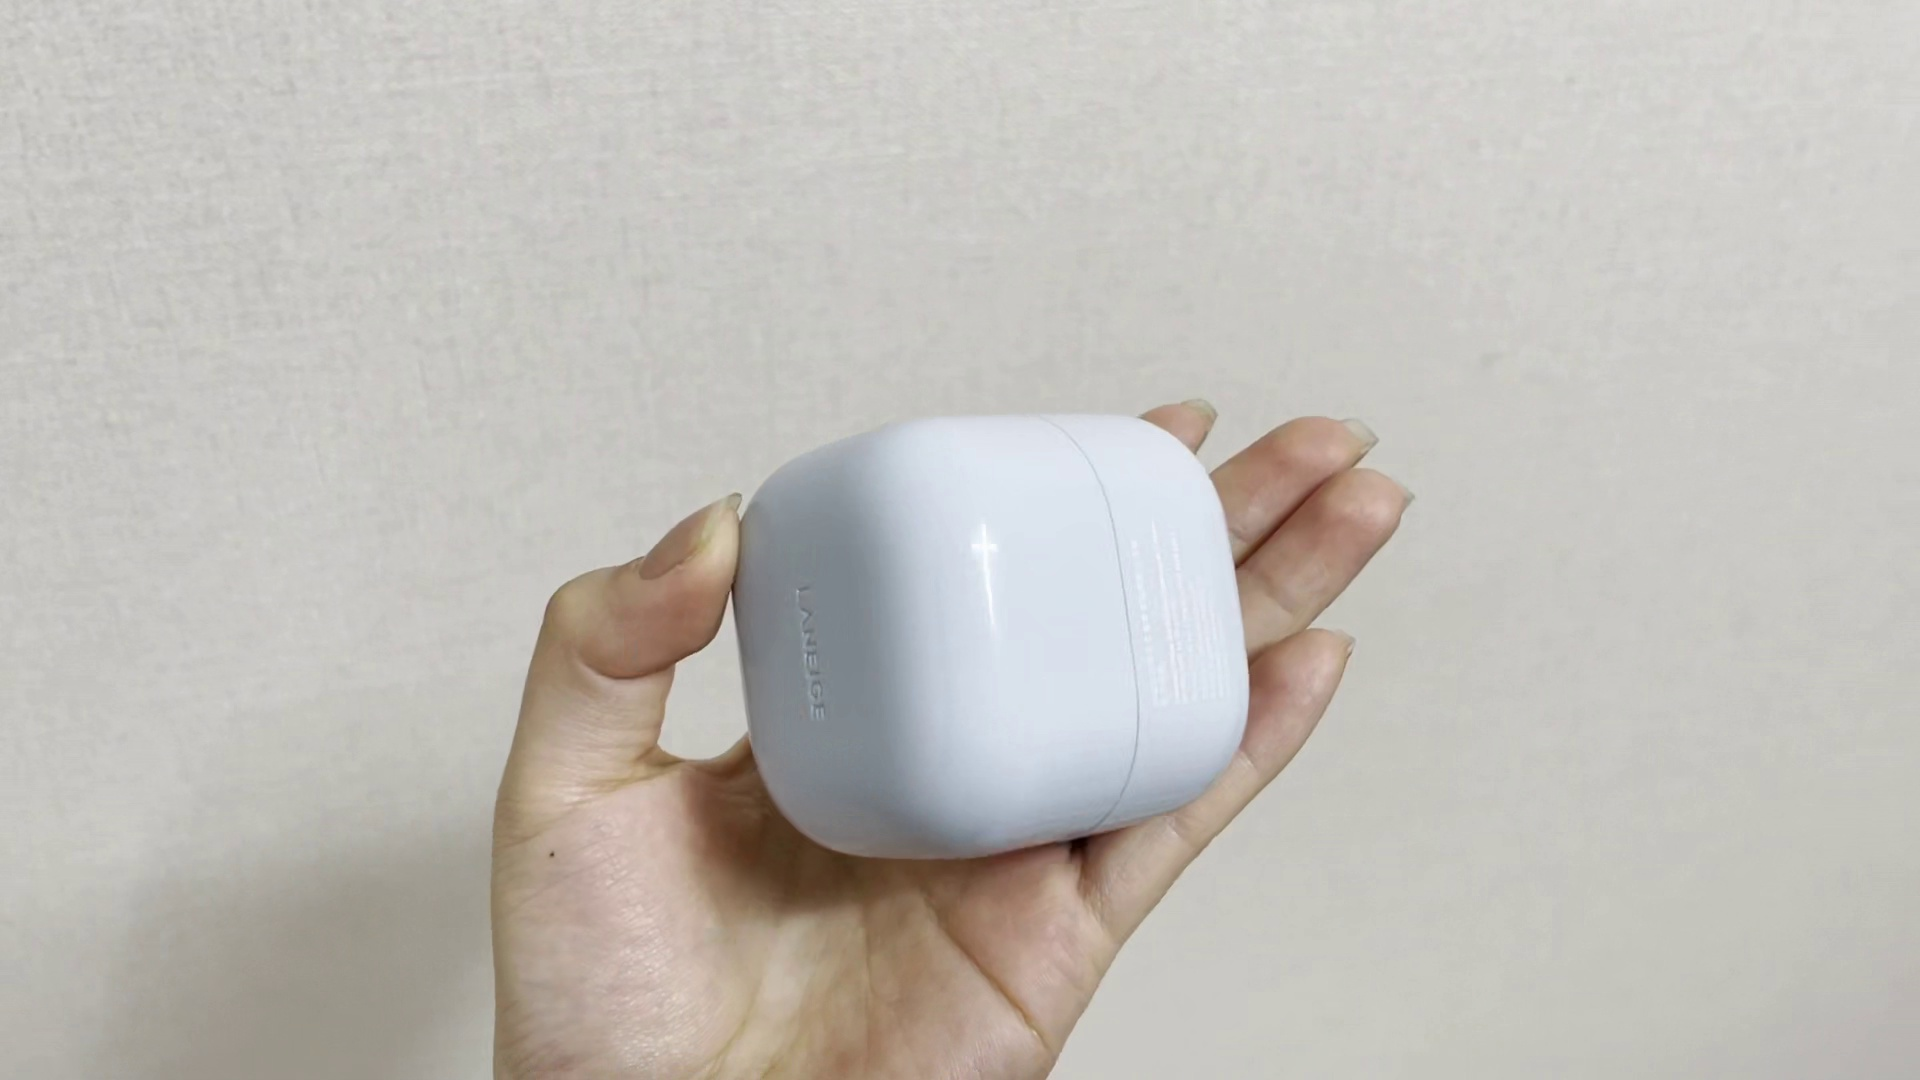cream: (736, 414, 1246, 858)
